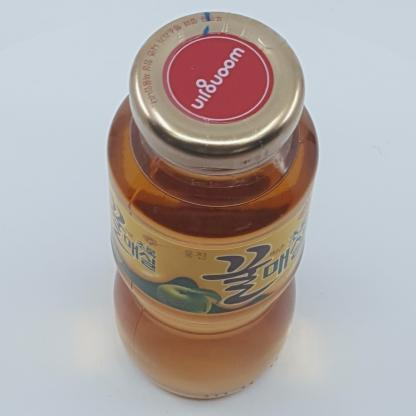-------180ML: (107, 12, 318, 399)
